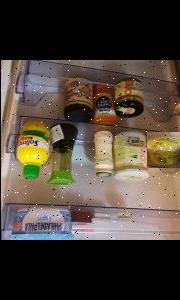Guacamole: (146, 132, 180, 168)
